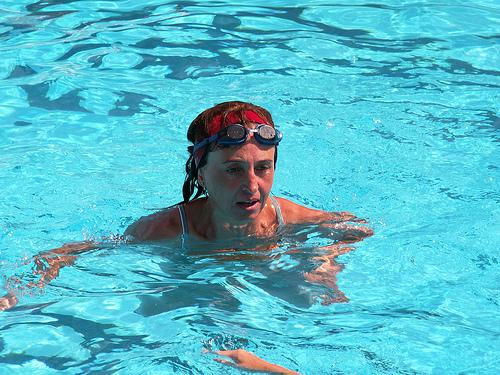swimmer: (120, 97, 354, 302)
